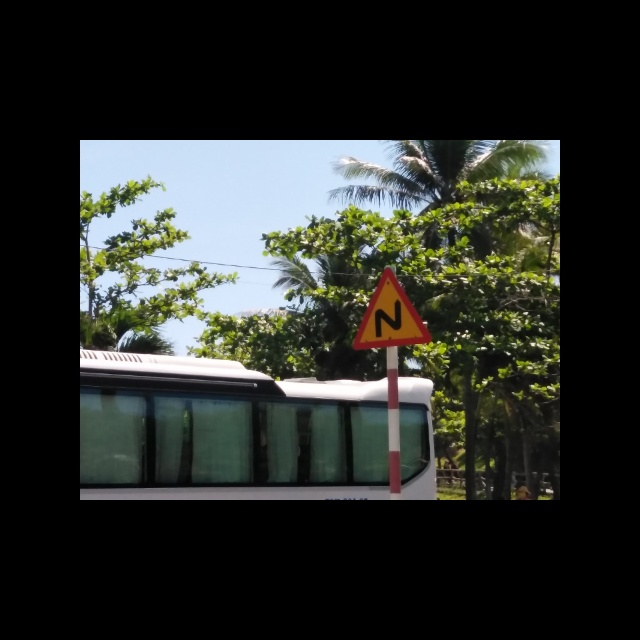Ngoặt nguy hiểm liên tiếp bên phải: (353, 267, 431, 353)
